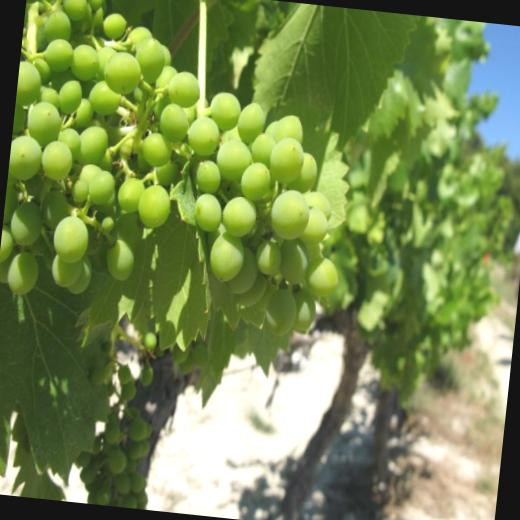Orange: (0, 0, 366, 342), (77, 325, 166, 509)
